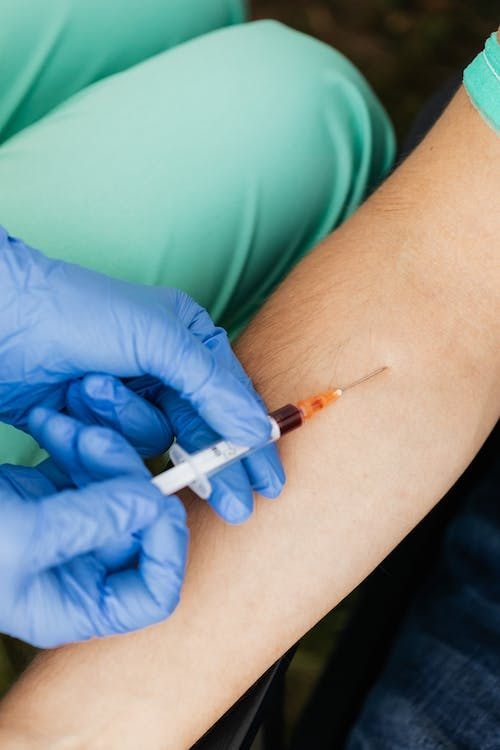blood: (261, 384, 346, 440)
